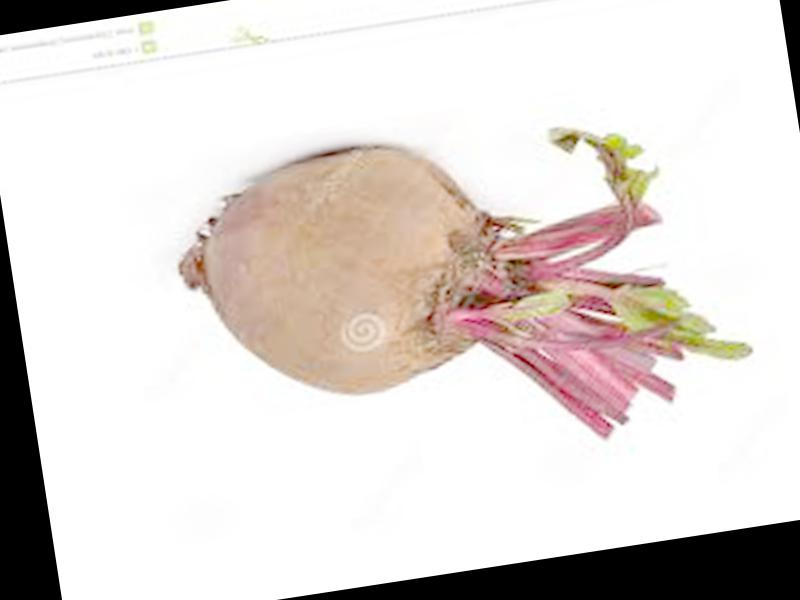Beet: (164, 97, 758, 495)
